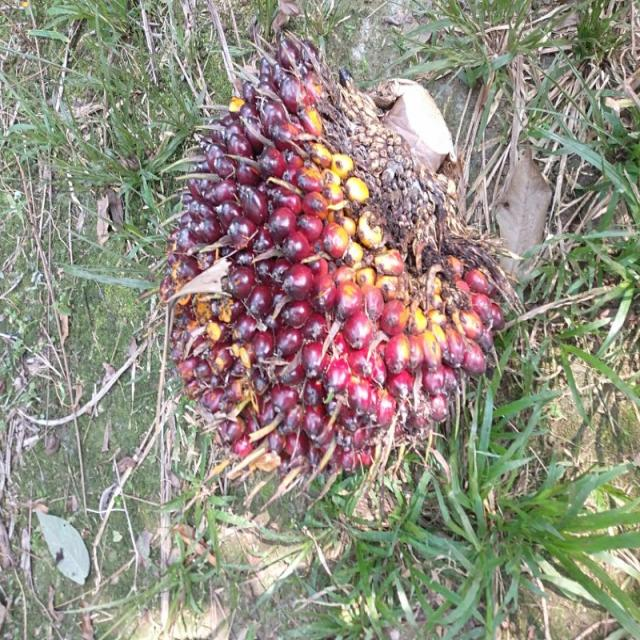fraksi 1: (140, 29, 530, 496)
